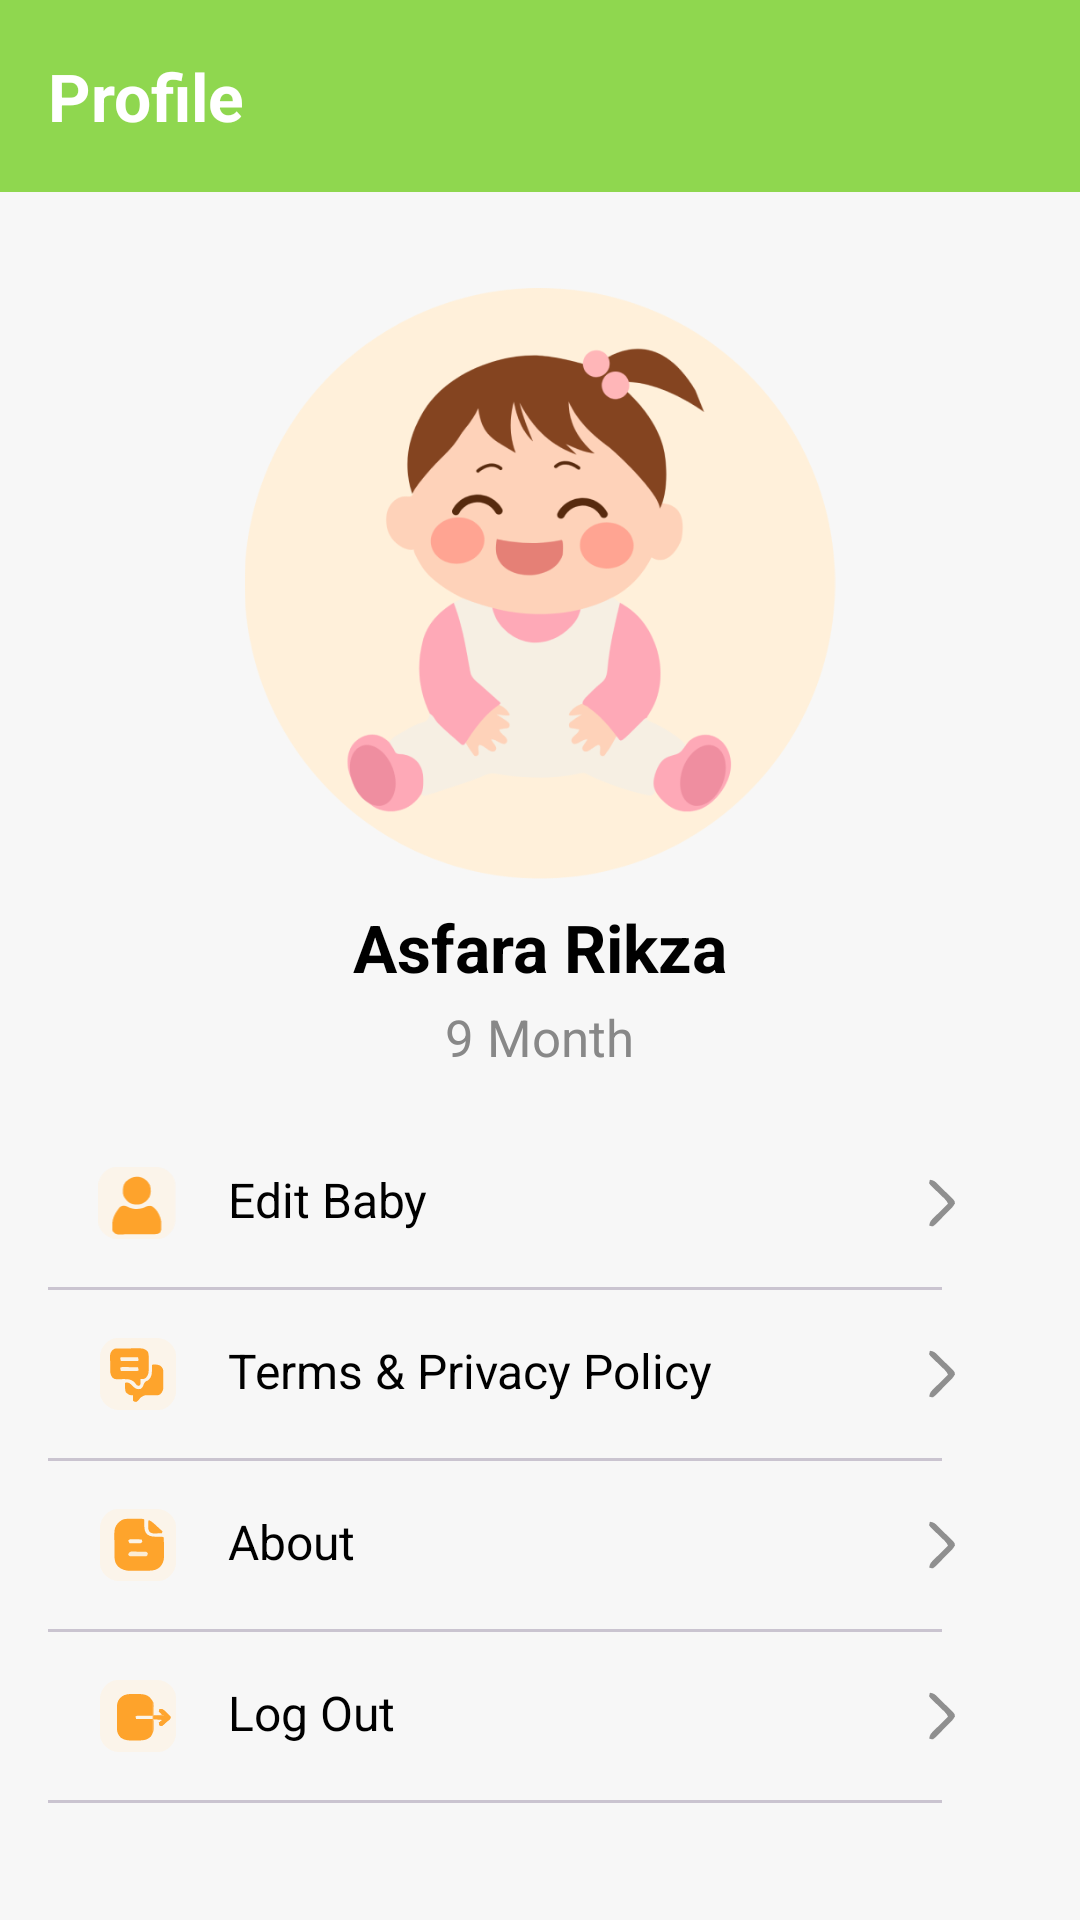

Screen size 1080 x 1920. Icon name, then its center in pixels as (x,y):
right: (942,1203), (942,1374), (942,1545), (942,1716)
